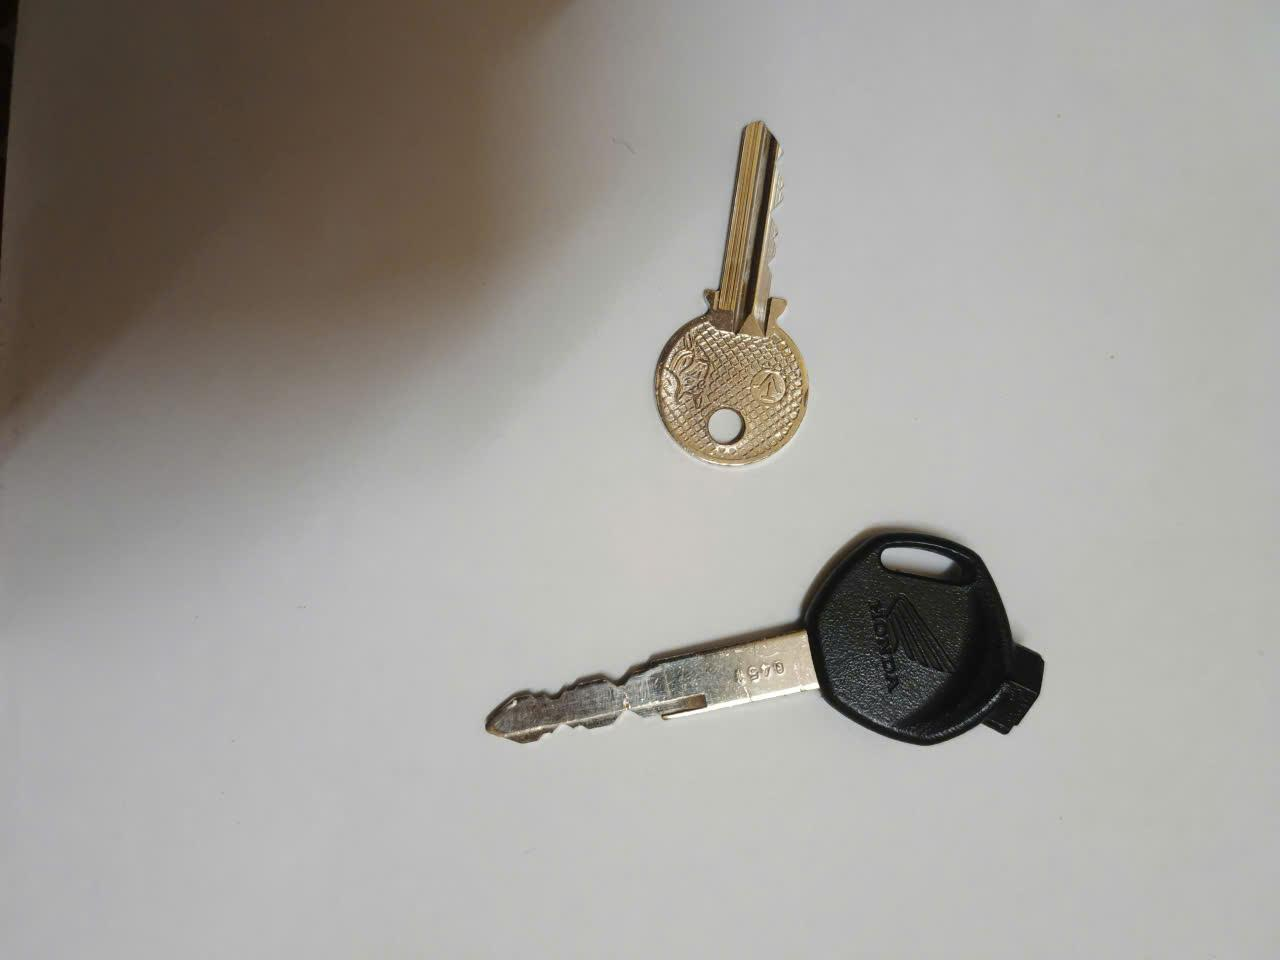Vo co: (484, 524, 1046, 748), (654, 122, 811, 471)
